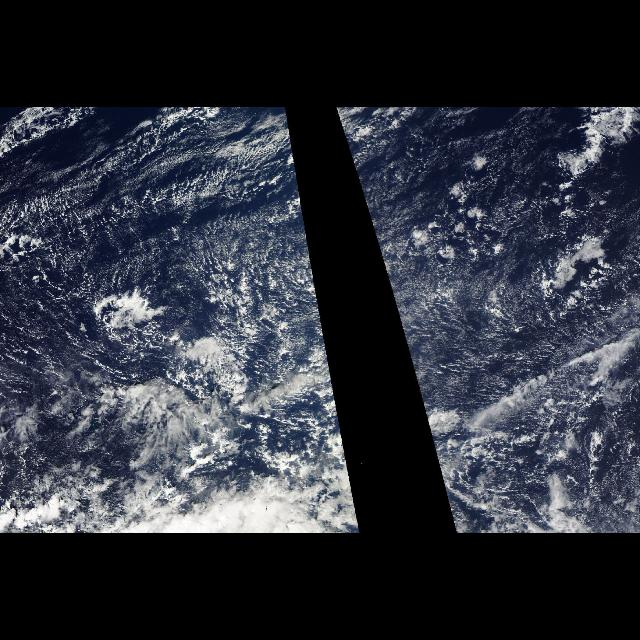Sugar: (1, 132, 329, 366), (342, 132, 566, 366)
